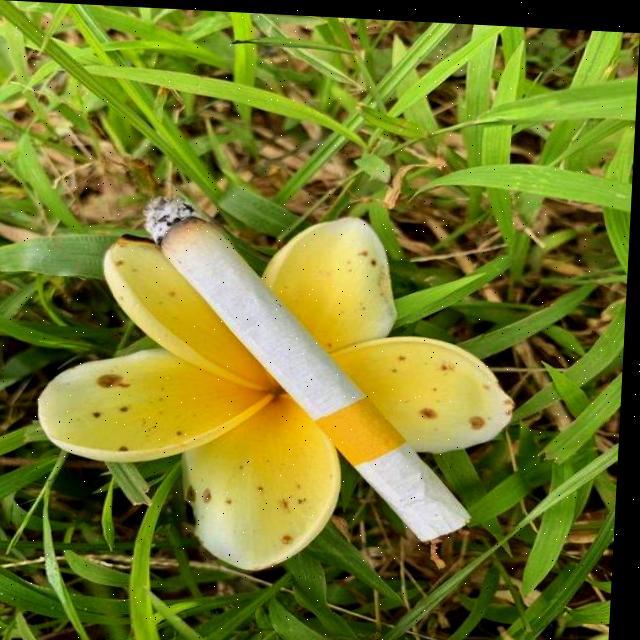cigarette: (132, 192, 487, 536)
